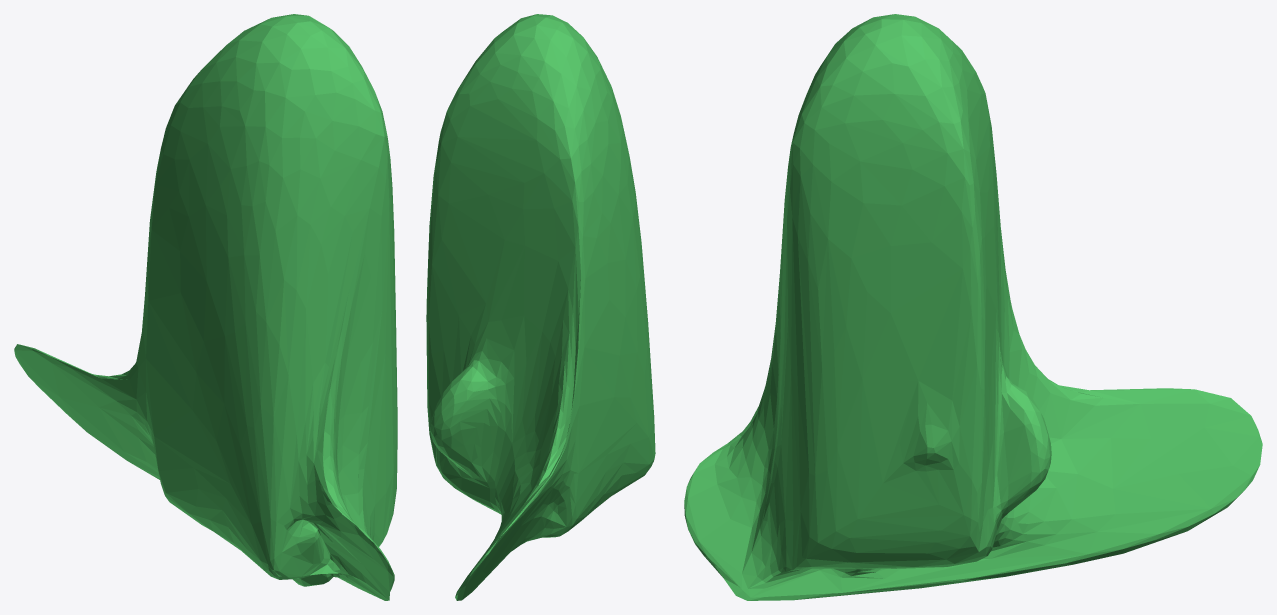
3 views of the same model, side by side, from view 1: azimuth 30°, elevation 25°; view 2: azimuth 150°, elevation 25°; view 3: azimuth 270°, elevation 25° (orthographic). The views are drawn at different scales.
Visible parts, largest first — view 1: 194_Cube.804; view 2: 194_Cube.804; view 3: 194_Cube.804.
Part boxes in pixels (x1,y1,x2,y2): 194_Cube.804: (14,14,397,600); 194_Cube.804: (426,14,655,600); 194_Cube.804: (684,14,1262,600).
Size of the model in its own units: 4.86 by 12.05 by 11.07.
